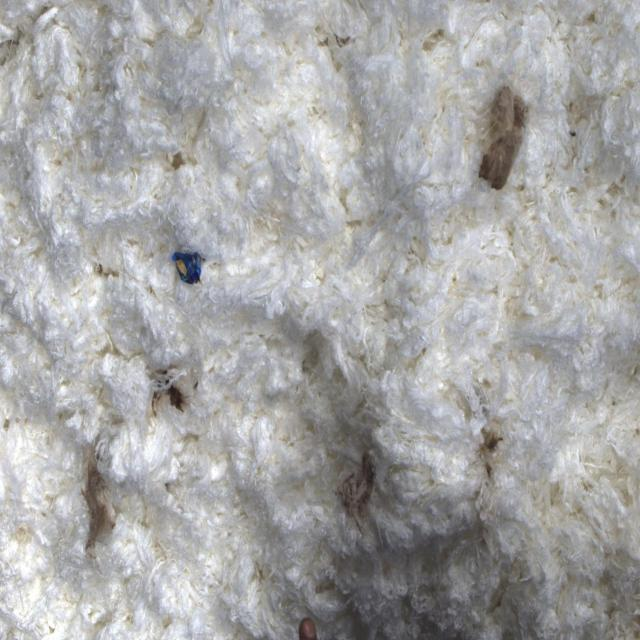dust: (448, 70, 545, 249), (71, 446, 125, 564), (162, 211, 218, 323), (283, 582, 328, 640), (145, 363, 187, 420), (480, 430, 505, 491)
